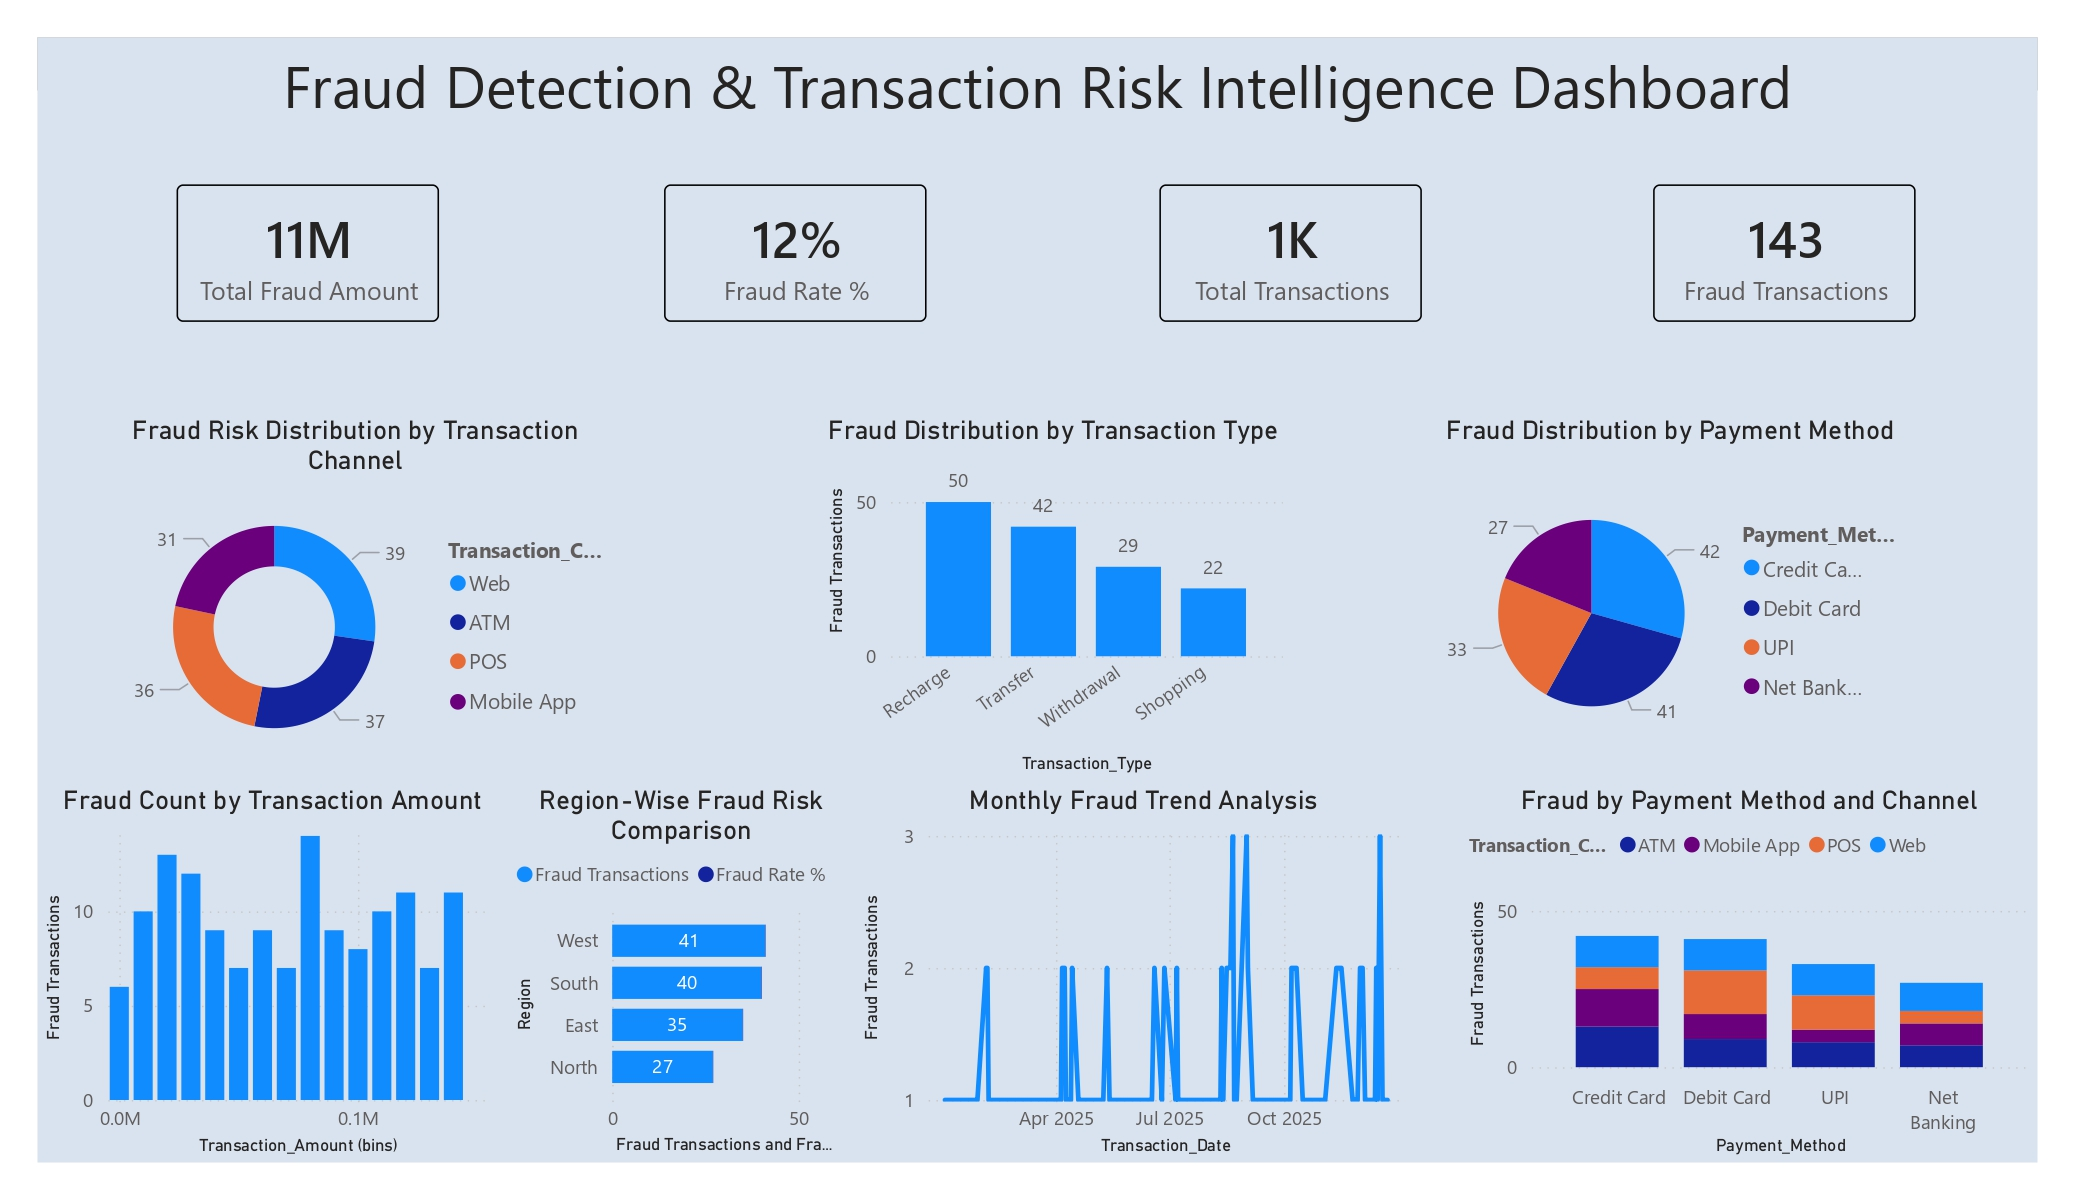

What the dashboard file says about the page in this screenshot:
{"tool":"powerbi","page":{"name":"Page 1","canvas":[1280,720],"ordinal":0},"visuals":[{"type":"cardVisual","fields":{"Data":["Fraud_Transactions.Total Transactions"]},"box":[700.7,77,203,122.3],"z":0},{"type":"cardVisual","fields":{"Data":["Fraud_Transactions.Fraud Transactions"]},"box":[1017.4,77,203,122.3],"z":1000},{"type":"cardVisual","fields":{"Data":["Fraud_Transactions.Fraud Rate %"]},"box":[384,77,203,122.3],"z":2000},{"type":"cardVisual","fields":{"Data":["Fraud_Transactions.Total Fraud Amount"]},"box":[72.1,77,203,122.3],"z":3000},{"type":"clusteredColumnChart","title":"Fraud Distribution by Transaction Type","fields":{"Category":["Fraud_Transactions.Transaction_Type"],"Y":["Fraud_Transactions.Fraud Transactions"]},"box":[501.4,240.9,300.8,234.8],"z":4000},{"type":"columnChart","title":"Fraud Count by Transaction Amount","fields":{"Category":["Fraud_Transactions.Transaction_Amount (bins)"],"Y":["Fraud_Transactions.Fraud Transactions"]},"box":[0,478,301,242],"z":5000},{"type":"lineChart","title":"Monthly Fraud Trend Analysis","fields":{"Y":["Fraud_Transactions.Fraud Transactions"],"Category":["Fraud_Transactions.Transaction_Date"]},"box":[522.8,477.5,370.5,242.9],"z":6000},{"type":"barChart","title":"Region-Wise Fraud Risk Comparison","fields":{"Category":["Fraud_Transactions.Region"],"Y":["Fraud_Transactions.Fraud Transactions","Fraud_Transactions.Fraud Rate %"]},"box":[300.8,478.1,222.6,242.1],"z":7000},{"type":"columnChart","title":"Fraud by Payment Method and Channel","fields":{"Category":["Fraud_Transactions.Payment_Method"],"Series":["Fraud_Transactions.Transaction_Channel"],"Y":["Fraud_Transactions.Fraud Transactions"]},"box":[911,478.1,369.3,242.1],"z":8000},{"type":"donutChart","title":"Fraud Risk Distribution by Transaction Channel","fields":{"Category":["Fraud_Transactions.Transaction_Channel"],"Y":["Fraud_Transactions.Fraud Transactions"]},"box":[35.5,240.9,336.3,234.8],"z":9000},{"type":"pieChart","title":"Fraud Distribution by Payment Method","fields":{"Category":["Fraud_Transactions.Payment_Method"],"Y":["Fraud_Transactions.Fraud Transactions"]},"box":[892.7,240.9,304.5,236],"z":10000},{"type":"textbox","box":[0,0,1280.3,77],"z":11000}]}

Visuals, with their boxes on the page's 1280x720 design canvas (x1, y1, x2, y2). These are canvas units, not pixel positions in the 2075x1200 screenshot, which may show the page scaled, cropped or inside an application window:
cardVisual - Fraud_Transactions.Total Transactions: [x1=701, y1=77, x2=904, y2=199]
cardVisual - Fraud_Transactions.Fraud Transactions: [x1=1017, y1=77, x2=1220, y2=199]
cardVisual - Fraud_Transactions.Fraud Rate %: [x1=384, y1=77, x2=587, y2=199]
cardVisual - Fraud_Transactions.Total Fraud Amount: [x1=72, y1=77, x2=275, y2=199]
"Fraud Distribution by Transaction Type" clusteredColumnChart: [x1=501, y1=241, x2=802, y2=476]
"Fraud Count by Transaction Amount" columnChart: [x1=0, y1=478, x2=301, y2=720]
"Monthly Fraud Trend Analysis" lineChart: [x1=523, y1=478, x2=893, y2=720]
"Region-Wise Fraud Risk Comparison" barChart: [x1=301, y1=478, x2=523, y2=720]
"Fraud by Payment Method and Channel" columnChart: [x1=911, y1=478, x2=1280, y2=720]
"Fraud Risk Distribution by Transaction Channel" donutChart: [x1=36, y1=241, x2=372, y2=476]
"Fraud Distribution by Payment Method" pieChart: [x1=893, y1=241, x2=1197, y2=477]
textbox: [x1=0, y1=0, x2=1280, y2=77]
